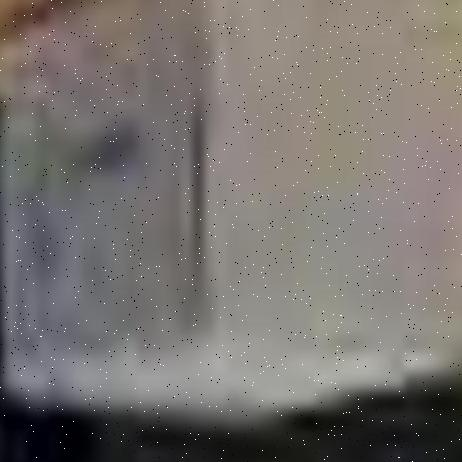Other: (8, 0, 462, 422)
